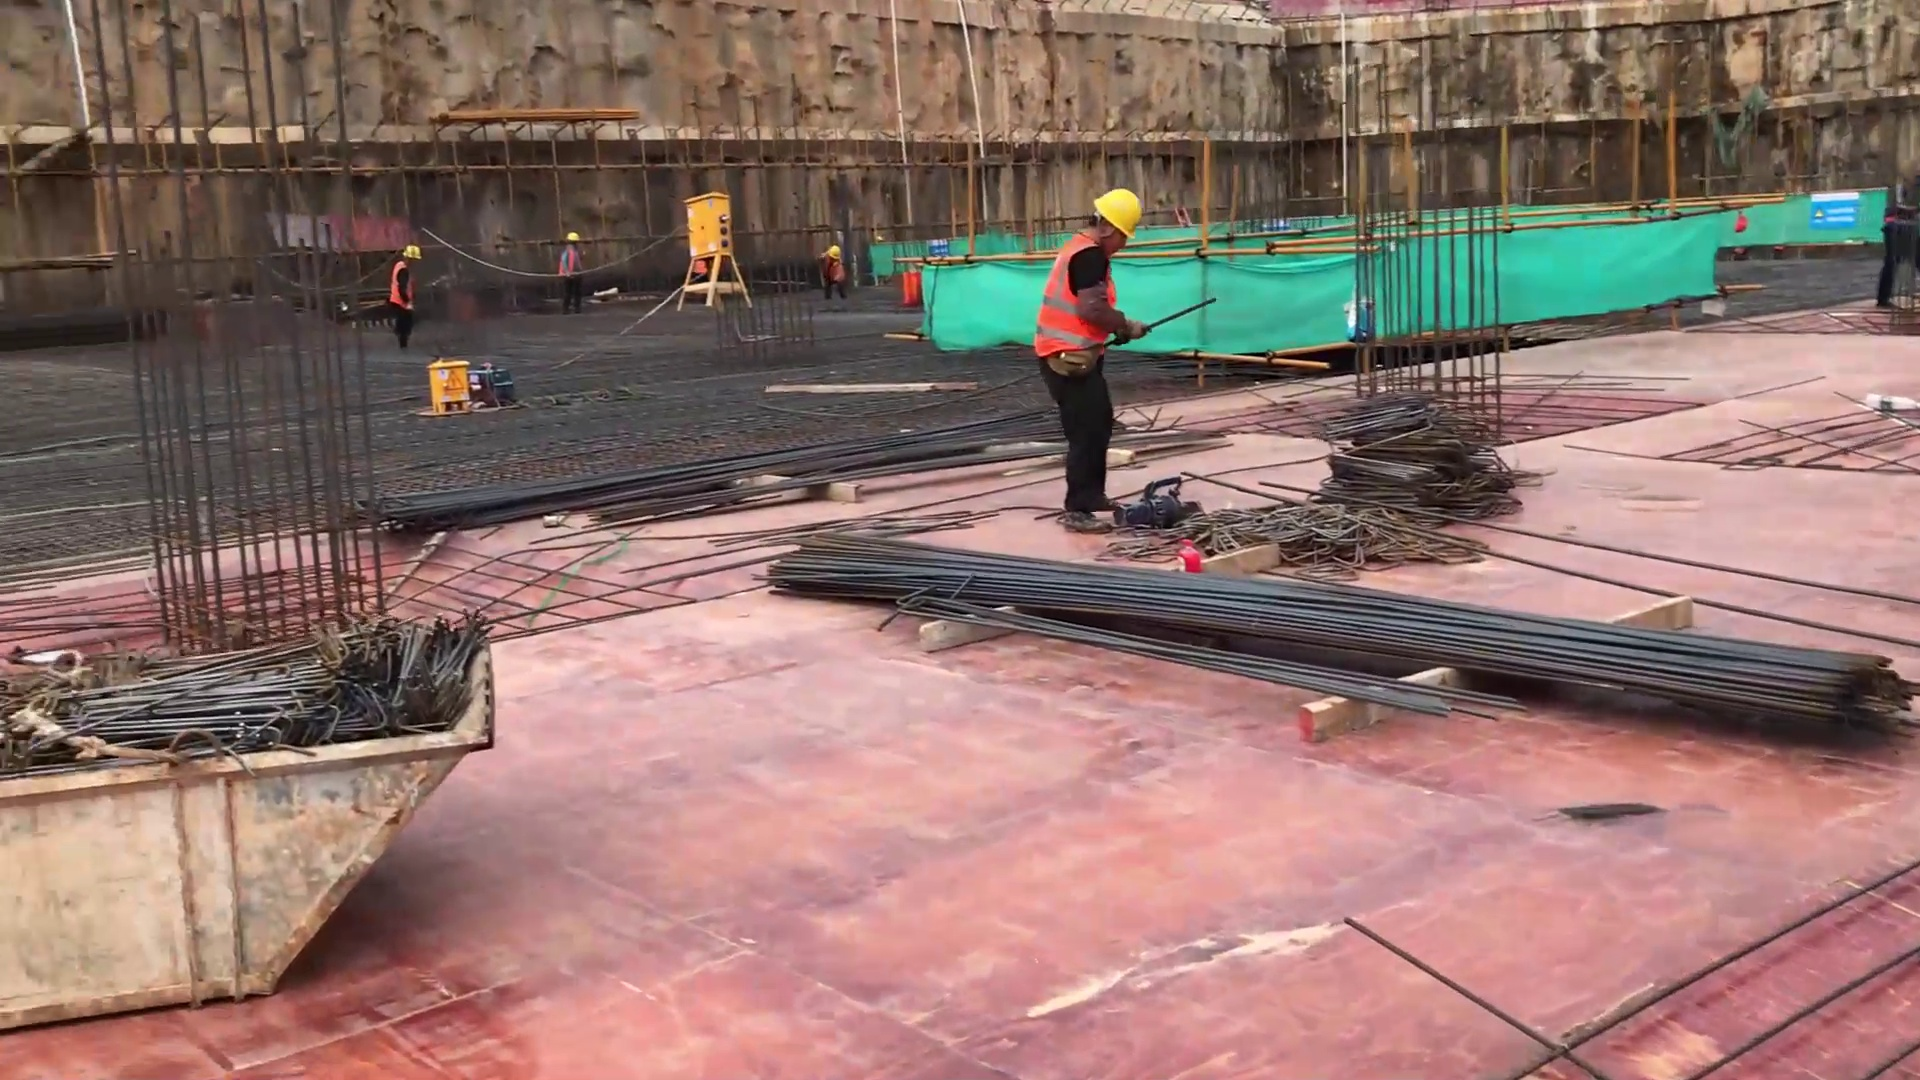ebox: (676, 201, 729, 259), (426, 366, 468, 397)
helmet: (1095, 191, 1139, 235), (826, 243, 842, 259), (403, 245, 420, 259), (564, 234, 583, 242)
hopper: (1, 606, 518, 1017)
person: (1036, 184, 1143, 521), (1868, 160, 1920, 318), (383, 241, 421, 343), (816, 236, 854, 293), (558, 230, 588, 300)
rebar: (773, 571, 1893, 669), (305, 457, 1070, 531)
vest: (1037, 241, 1123, 358), (1885, 179, 1910, 237), (392, 260, 414, 311), (823, 254, 846, 281), (560, 245, 579, 278)
